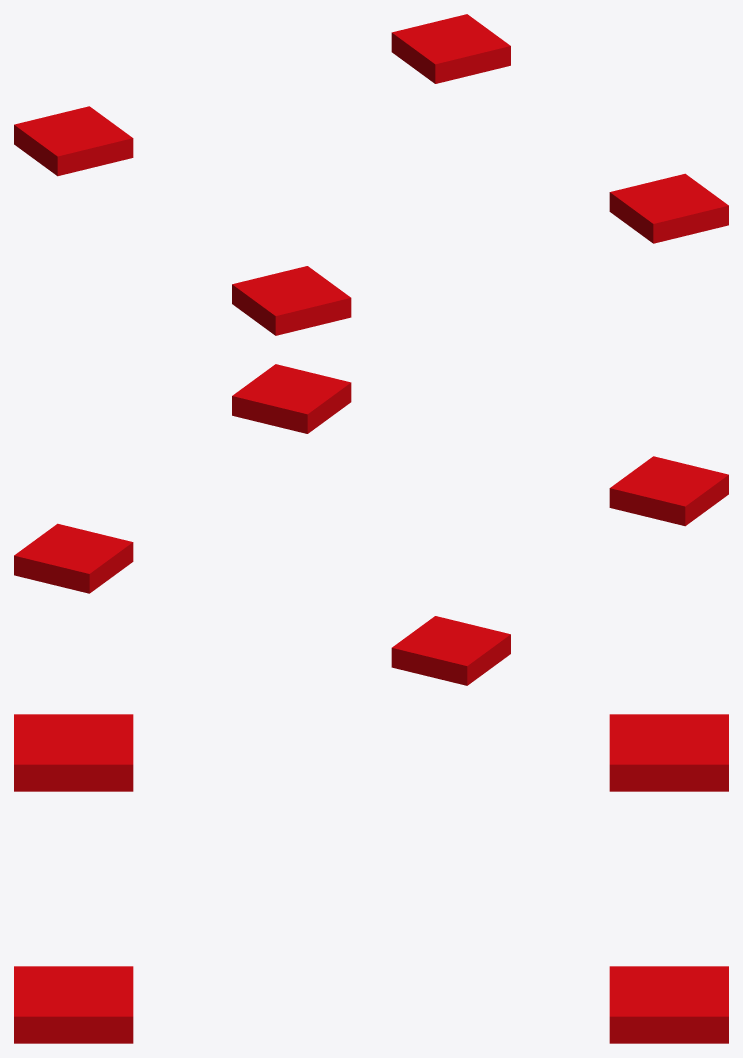
Rendered from cubes plants.fbx.
3 renders of one model, top to bottom at view 1: azimuth 30°, elevation 25°; view 2: azimuth 150°, elevation 25°; view 3: azimuth 270°, elevation 25°, orthographic. The views are drawn at different scales.
Parts seen in each view (by area): view 1: Cube; view 2: Cube; view 3: Cube.
Part boxes in pixels (<box>): Cube: <box>14,14,728,335</box>; Cube: <box>14,364,728,685</box>; Cube: <box>14,714,728,1043</box>.
Size of the model in its own units: 120 by 5 by 120.
